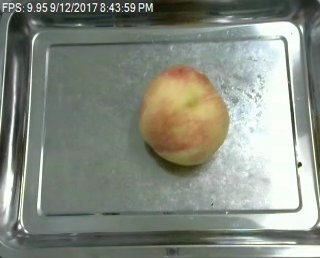Peach: (139, 62, 229, 166)
